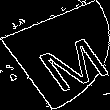M_NW: (12, 21, 98, 89)
